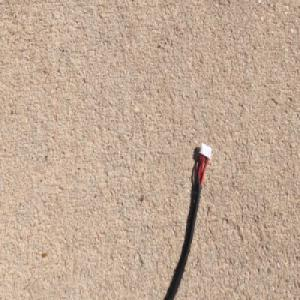Wire: (161, 140, 213, 300)
